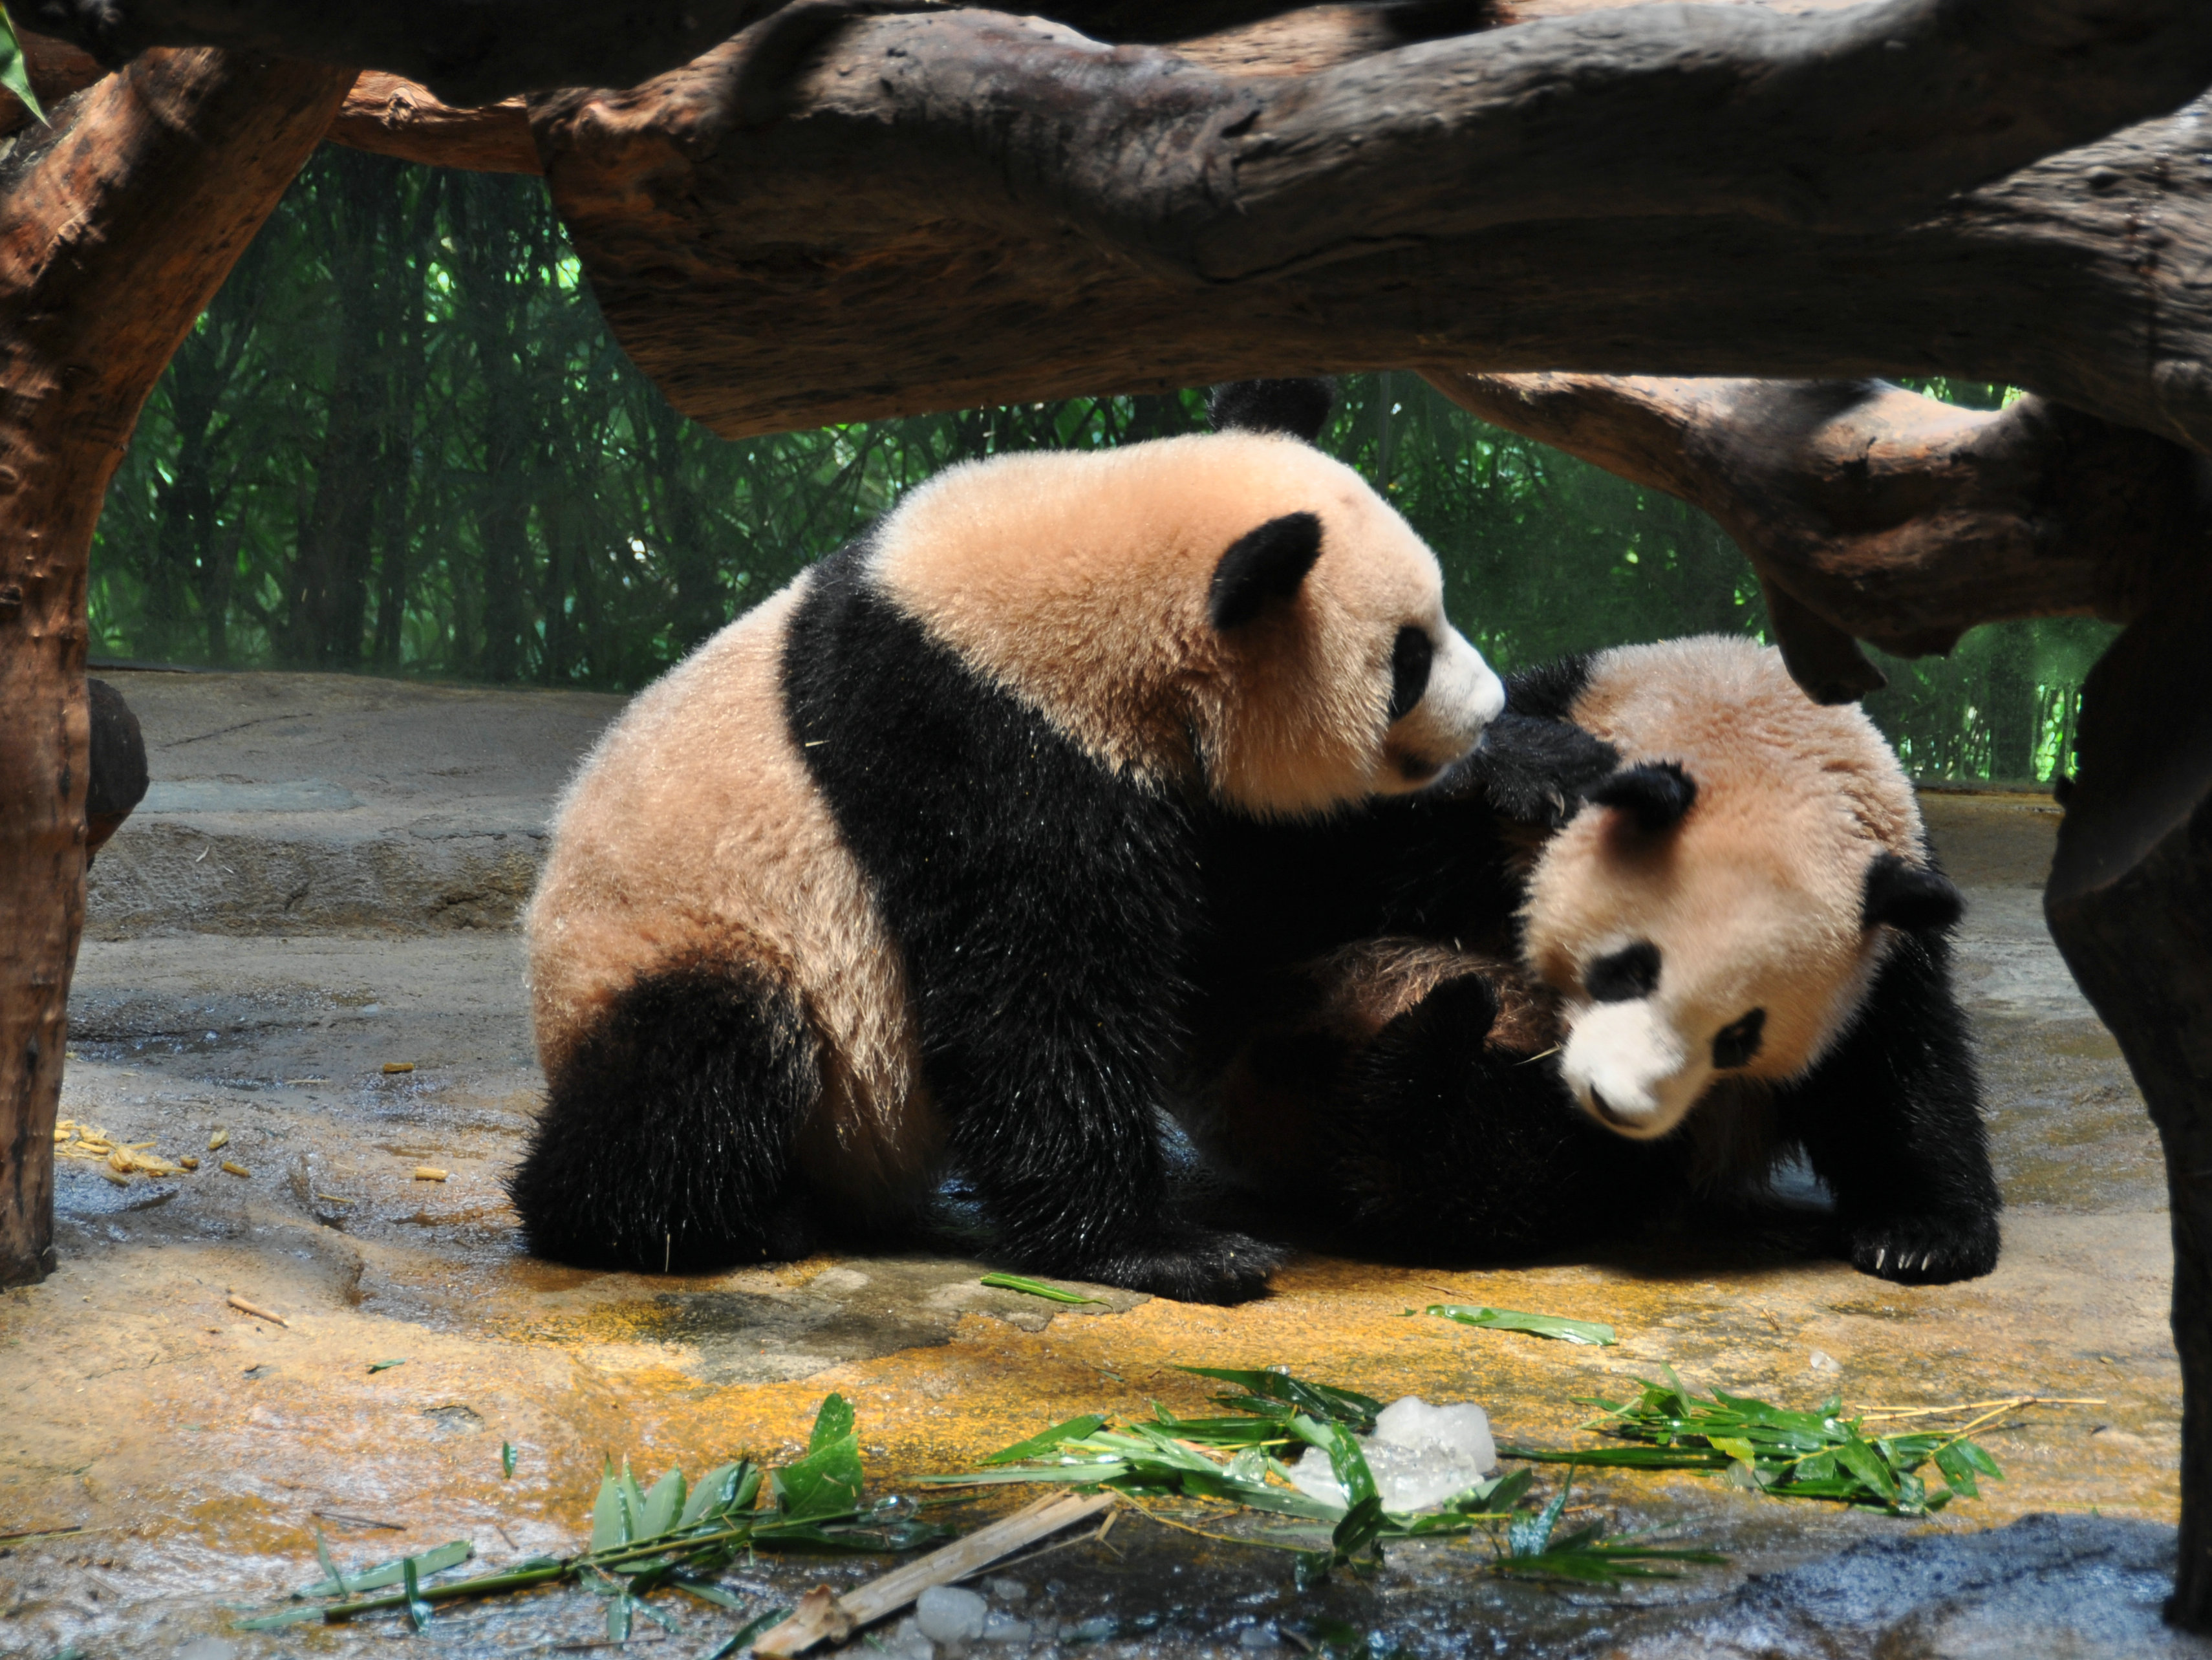panda: (567, 380, 1464, 1261), (1164, 572, 2062, 1311)
